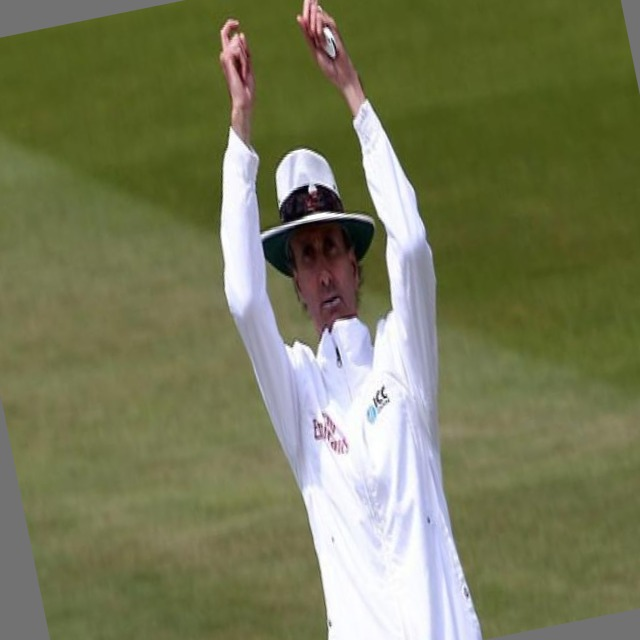Six: (161, 0, 521, 640)
